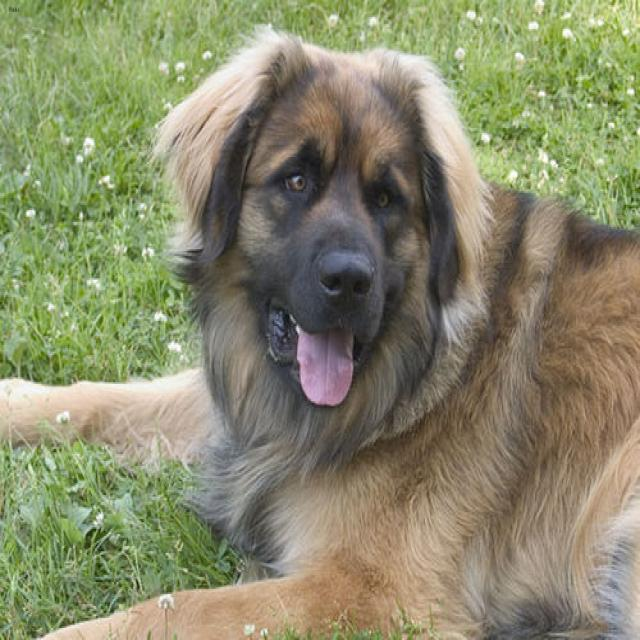dog-leonberger: (1, 15, 637, 637)
